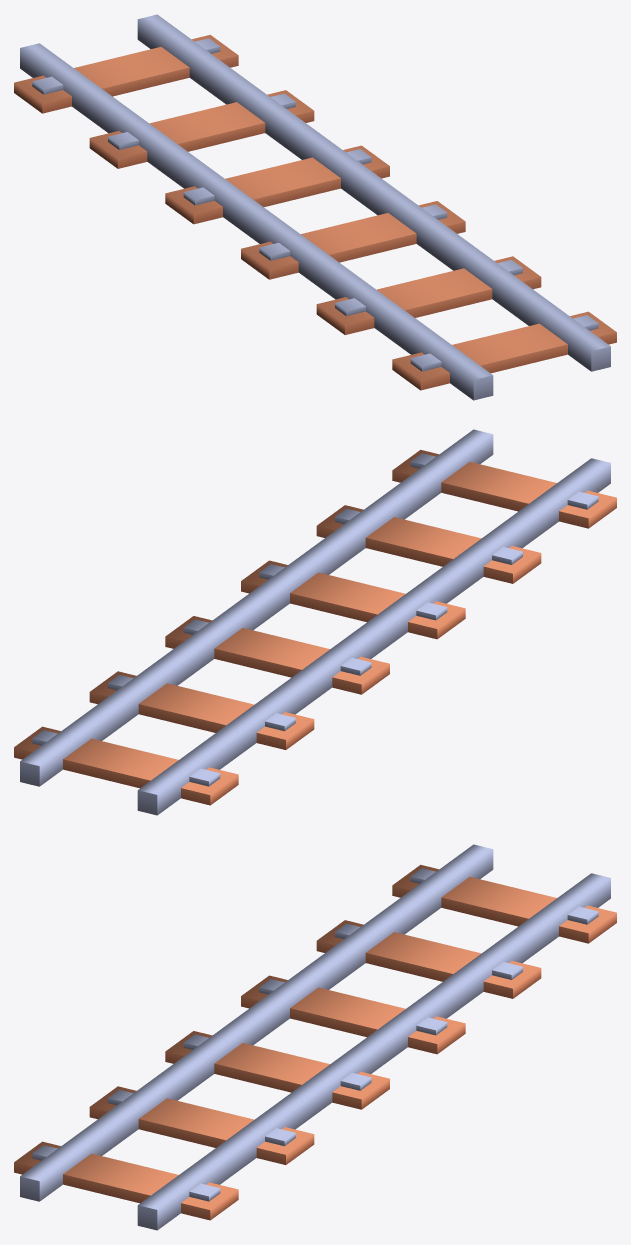
The model's file is rail.glb.
3 renders of one model, top to bottom at view 1: azimuth 30°, elevation 25°; view 2: azimuth 150°, elevation 25°; view 3: azimuth 330°, elevation 25°, orthographic.
Parts seen in each view (by area): view 1: railroad-straight; view 2: railroad-straight; view 3: railroad-straight.
Part boxes in pixels (x1,y1,x2,y2): railroad-straight: (14,14,616,400); railroad-straight: (14,429,616,815); railroad-straight: (14,844,616,1230).
Bounding box in the file's own units: 1 × 0.1001 × 4.
1 material, 1 textured.
